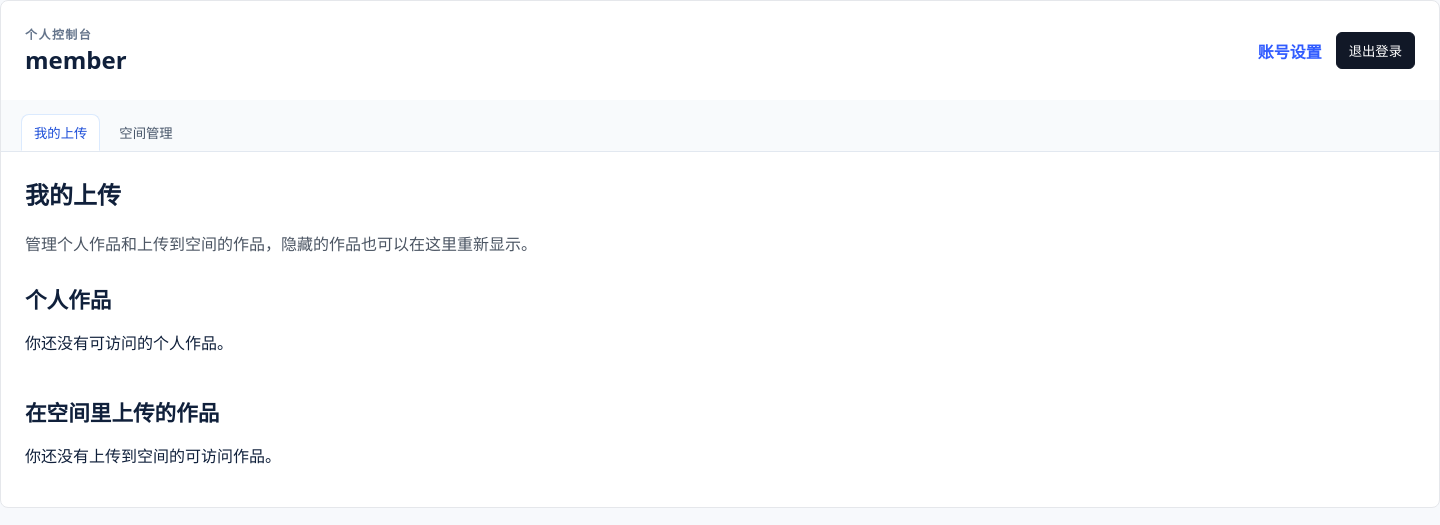
Test: DashboardPage › confirms and permanently deletes active or expired spaces
This screenshot has width=1440, height=525.
Click the button "空间管理" at (146, 132), box [106, 114, 186, 151]
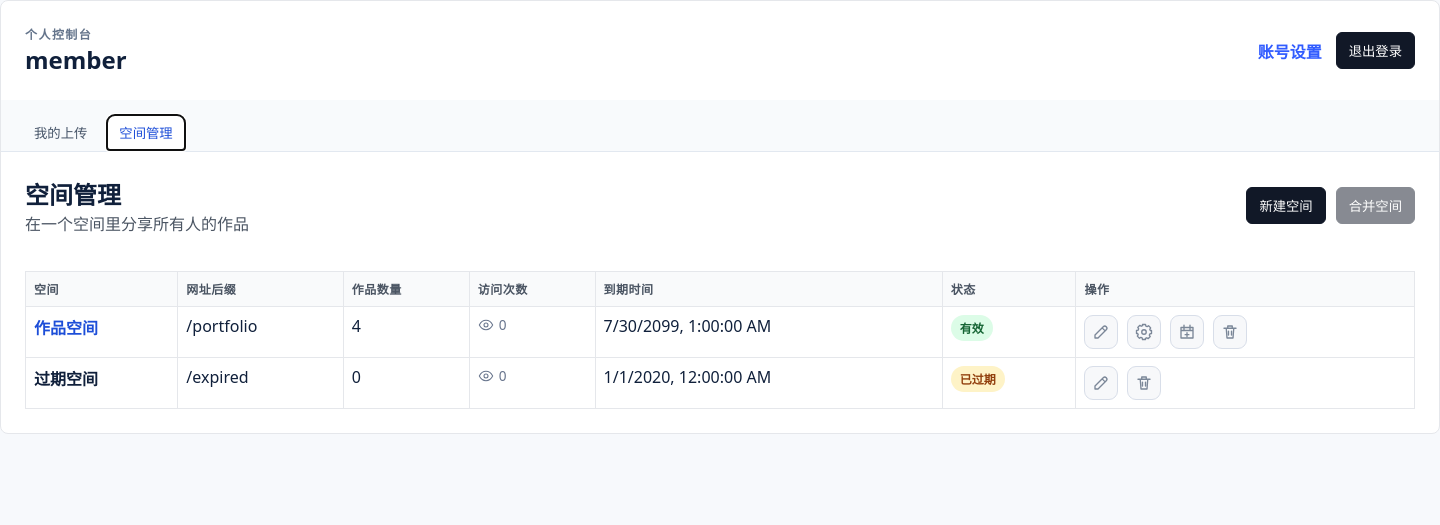
Expected: the button named "删除作品空间" is shown
Expected: the button named "删除过期空间" is shown, [1127, 366, 1161, 400]
Click the button named "删除作品空间" at (1230, 332), box [1213, 315, 1247, 349]
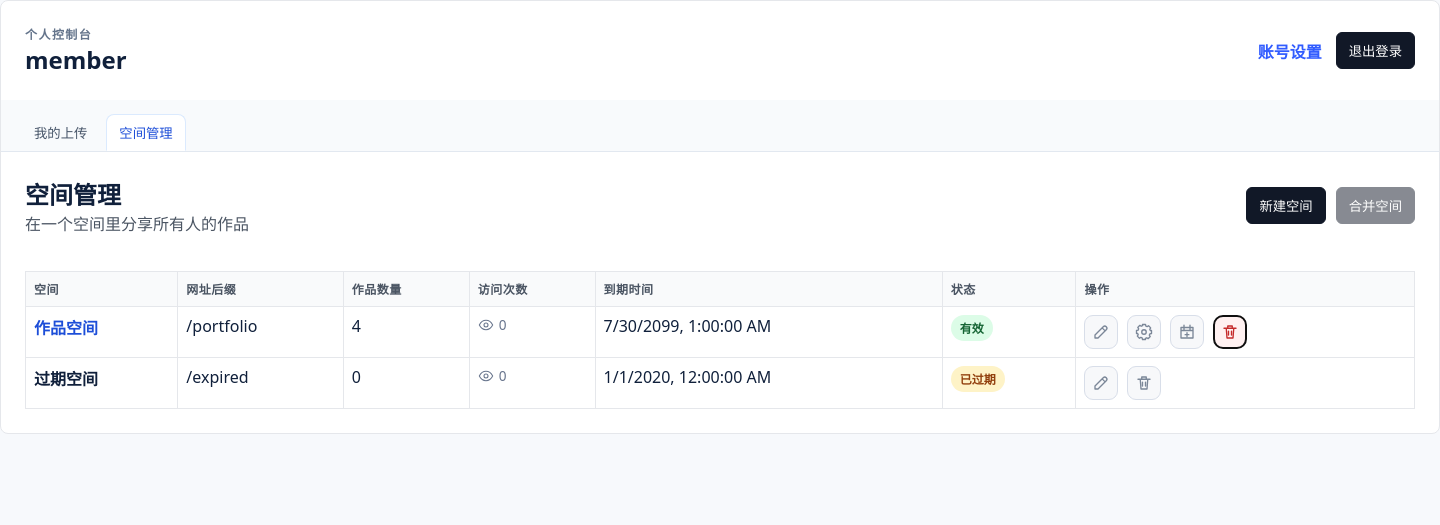
Click the button named "删除过期空间" at (1144, 383), box [1127, 366, 1161, 400]
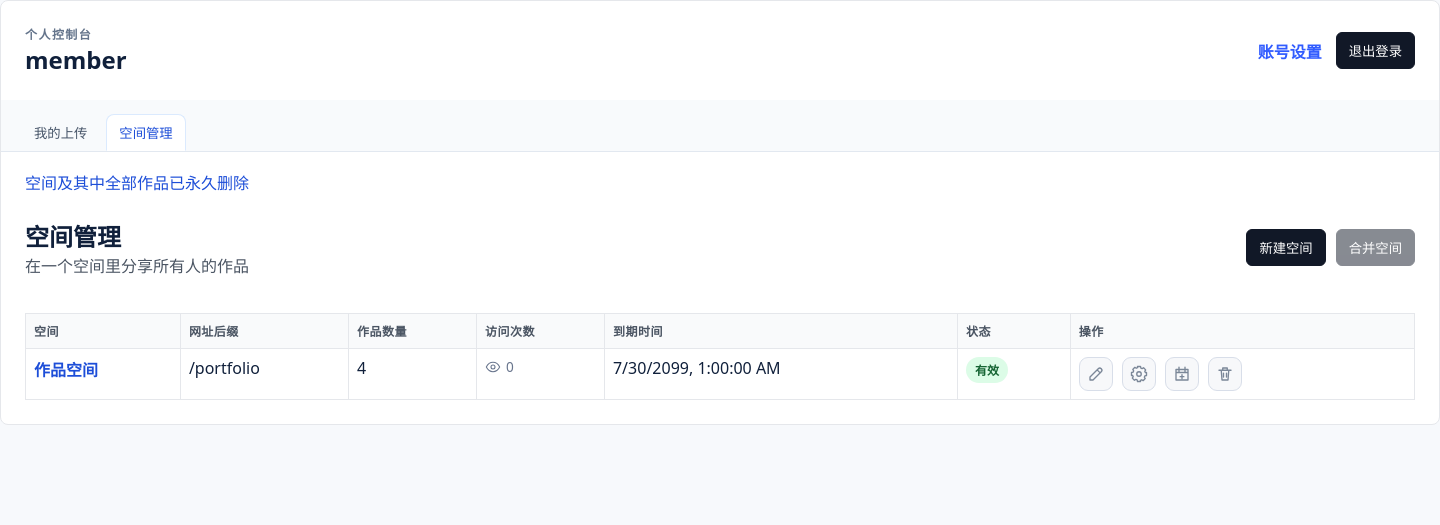
Expected: the text "过期空间" is gone
